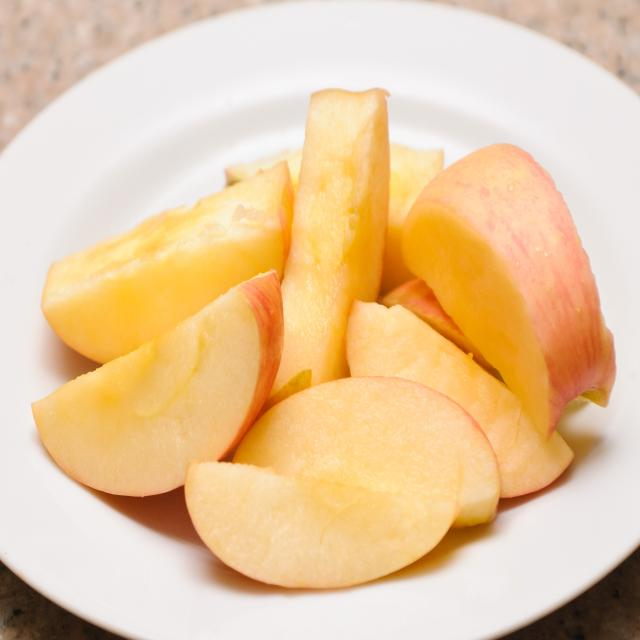Apple: (403, 130, 623, 442), (32, 283, 298, 493), (46, 164, 298, 381), (182, 421, 463, 611), (276, 73, 393, 446)
